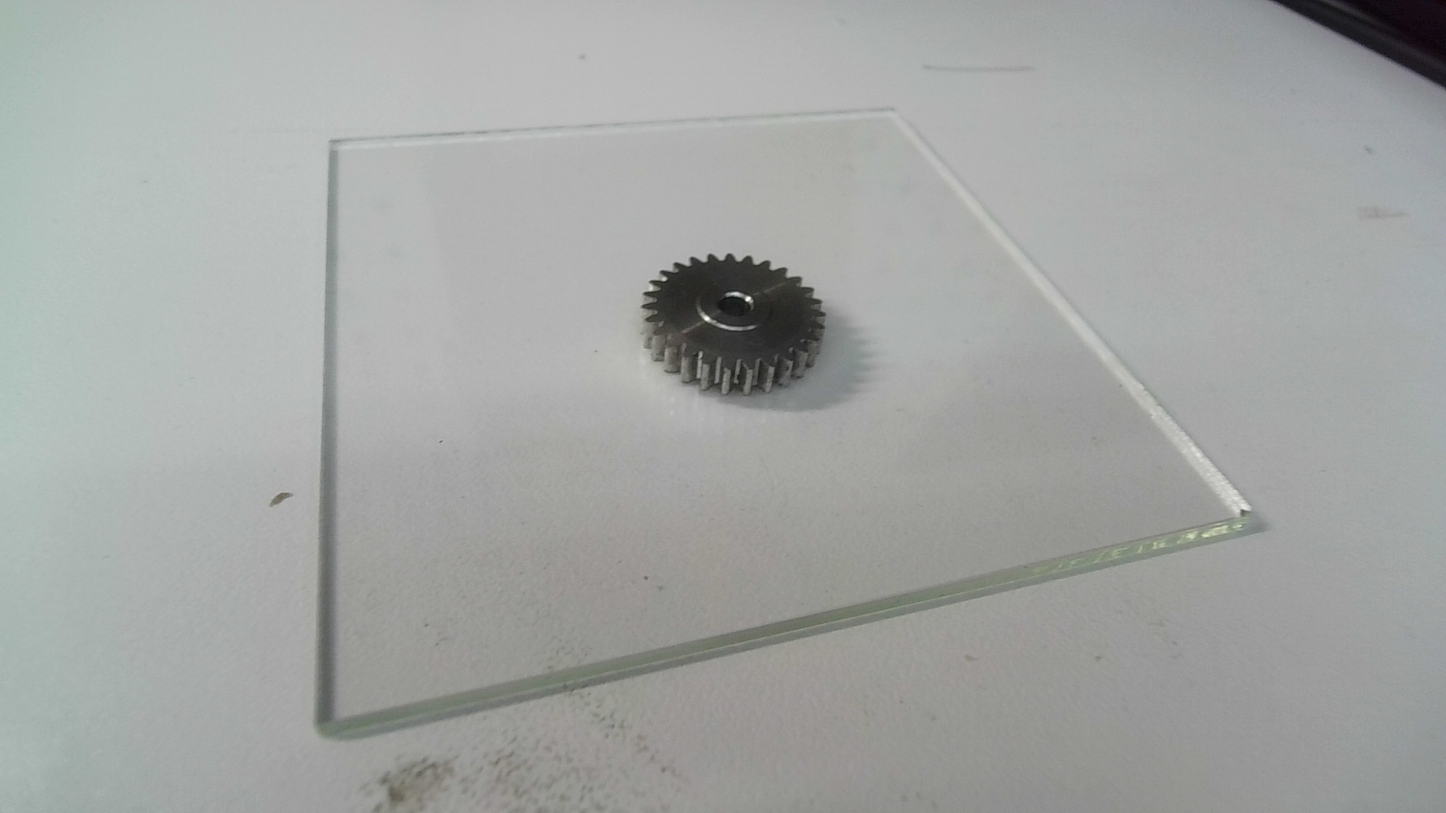gear: (636, 251, 830, 399)
